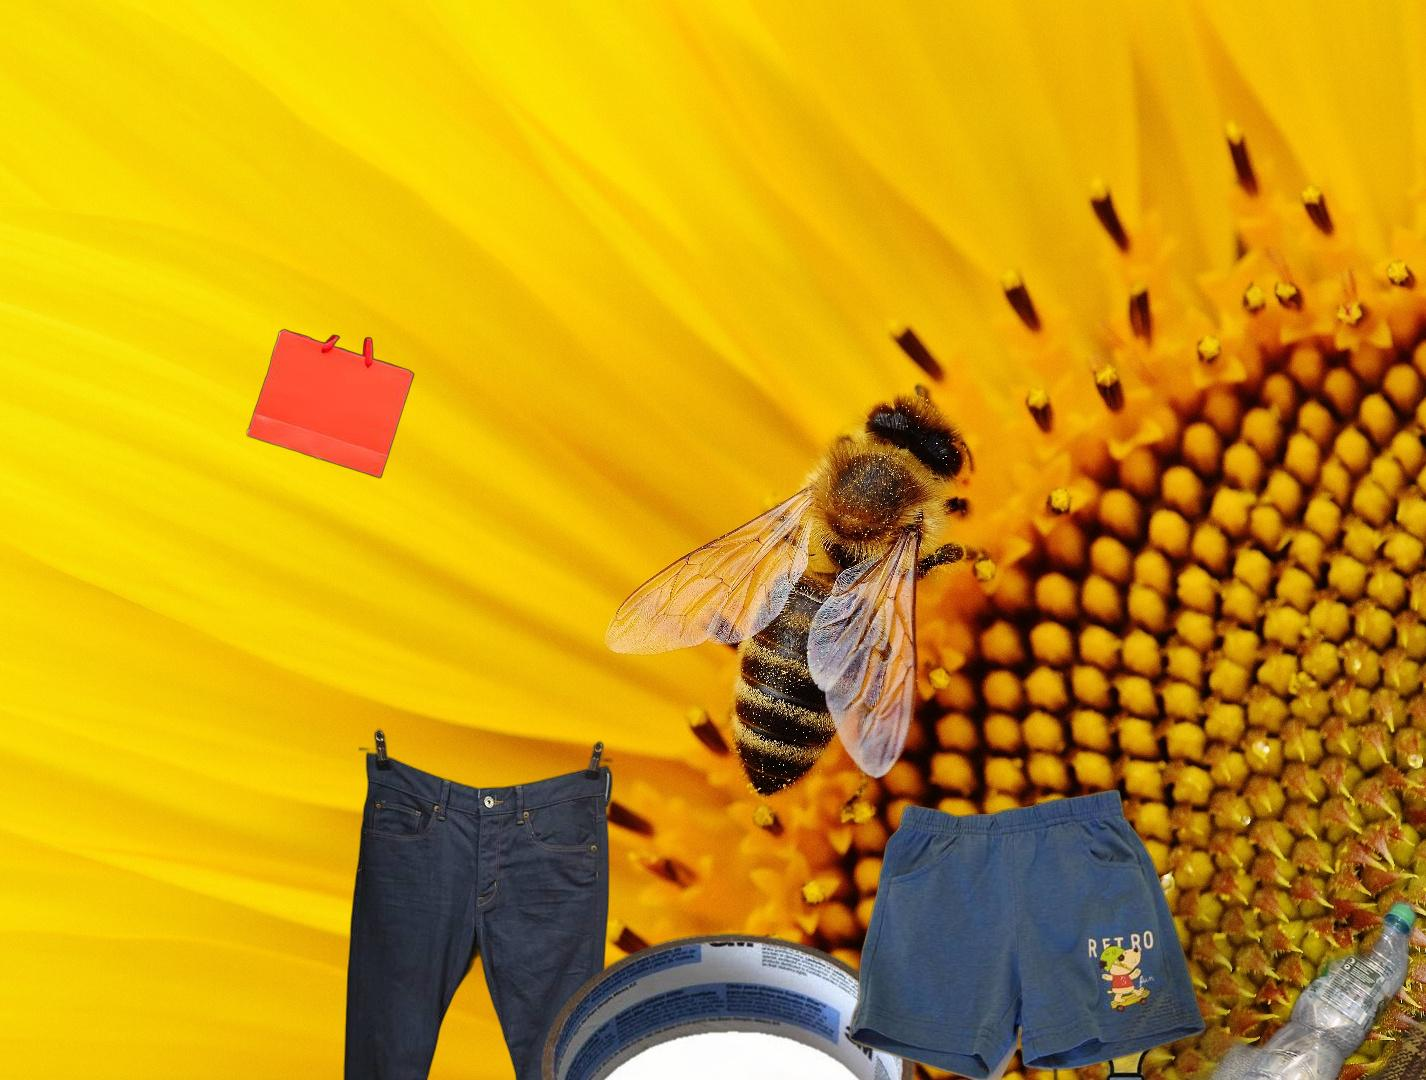clothes: (846, 787, 1209, 1080), (341, 728, 615, 1080)
paper-bag: (245, 326, 417, 481), (1332, 1015, 1426, 1080)
plastic-bottles: (1080, 746, 1426, 1080)
trashbox-cardboard: (534, 928, 1237, 1080), (1109, 126, 1426, 406)
